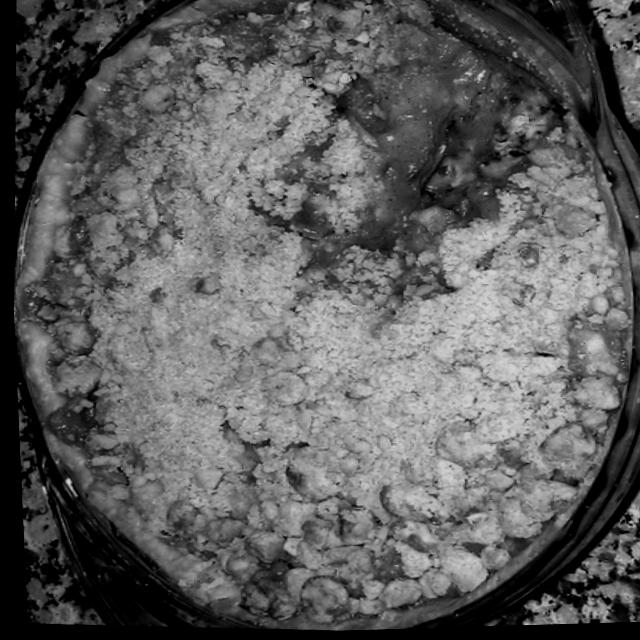炸货点心: (3, 0, 627, 639)
蛋糕甜品: (3, 0, 627, 639)
